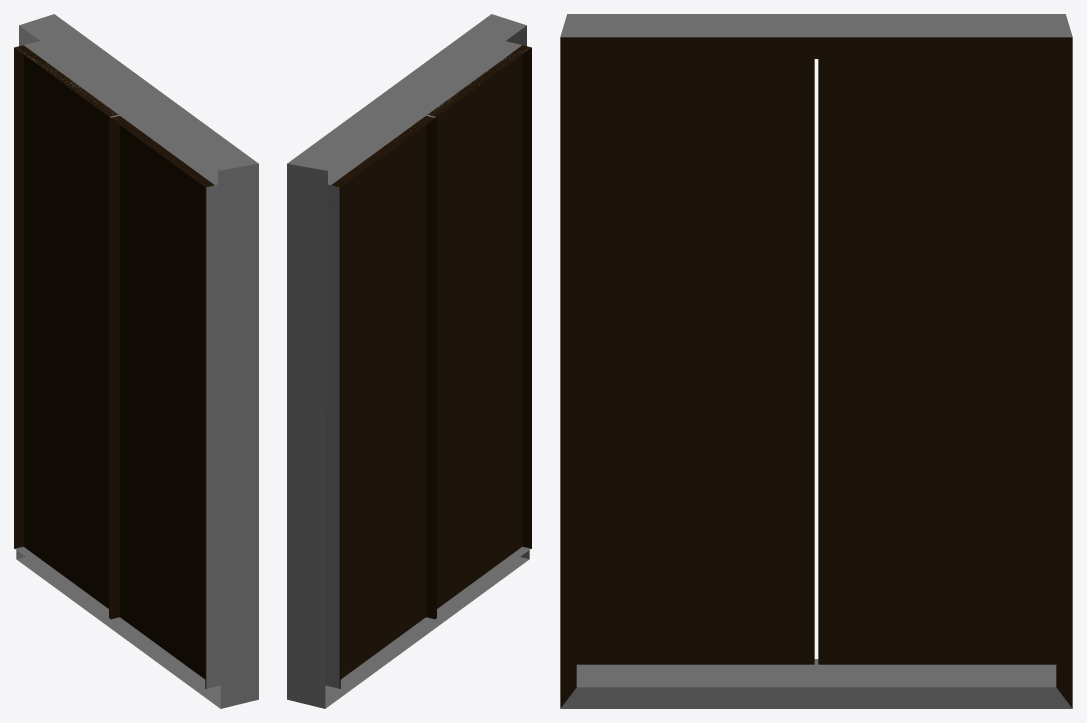
Rendered from elavator_door_final.fbx.
The picture shows the model from 3 angles, left to right: view 1: azimuth 30°, elevation 25°; view 2: azimuth 150°, elevation 25°; view 3: azimuth 270°, elevation 25°; orthographic projection. The views are drawn at different scales.
Visible parts, largest first — view 1: polySurface50, polySurface49, polySurface48; view 2: polySurface49, polySurface50, polySurface48; view 3: polySurface49, polySurface50, polySurface48.
Part boxes in pixels (<box>): polySurface50: <box>110,115,214,688</box>; polySurface49: <box>14,45,118,618</box>; polySurface48: <box>15,14,258,708</box>; polySurface49: <box>331,115,435,688</box>; polySurface50: <box>427,45,531,618</box>; polySurface48: <box>287,14,530,708</box>; polySurface49: <box>818,59,1056,664</box>; polySurface50: <box>576,59,814,664</box>; polySurface48: <box>560,14,1072,708</box>.
Size of the model in its own units: 17.85 by 195 by 135.
